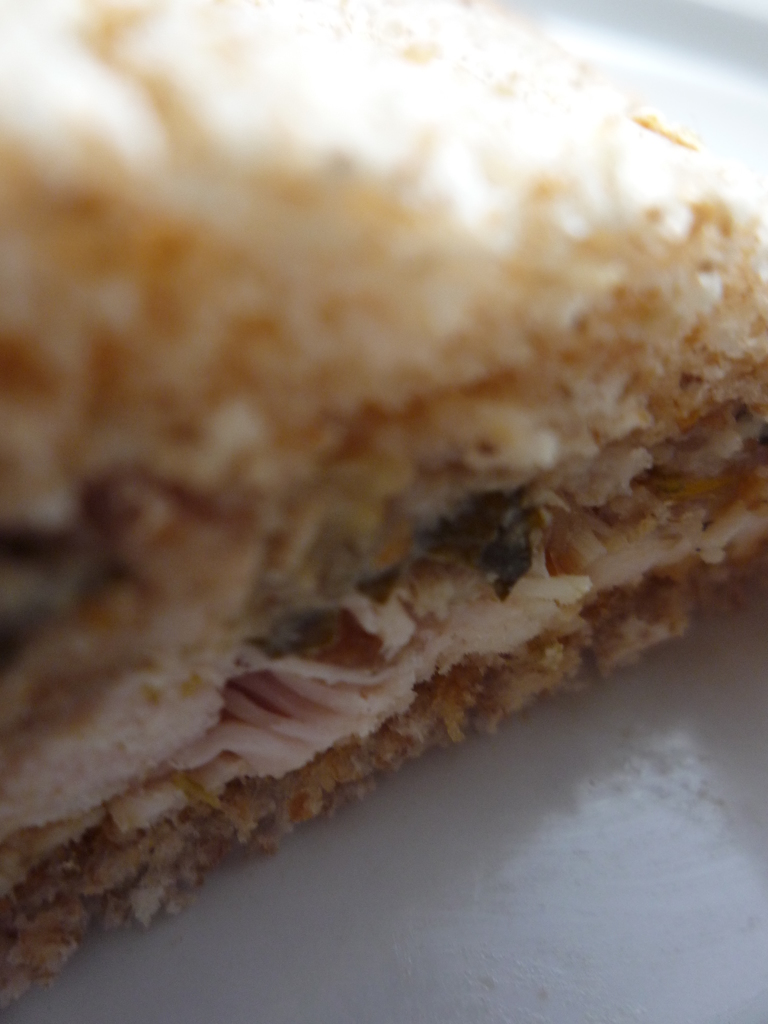sandwich: (0, 0, 767, 1009)
